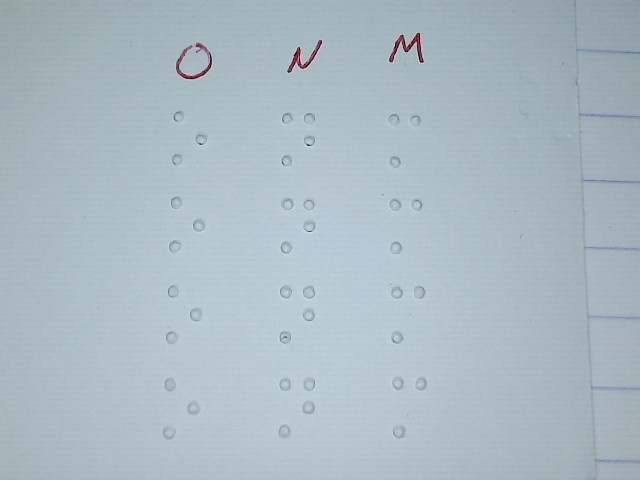M: (391, 375, 428, 438), (390, 284, 427, 343), (386, 112, 424, 168), (387, 197, 425, 253)
N: (278, 376, 317, 438), (278, 283, 317, 344), (279, 111, 317, 167), (280, 197, 318, 253)
O: (165, 283, 203, 345), (163, 377, 201, 439), (171, 110, 209, 166), (169, 196, 207, 252)
